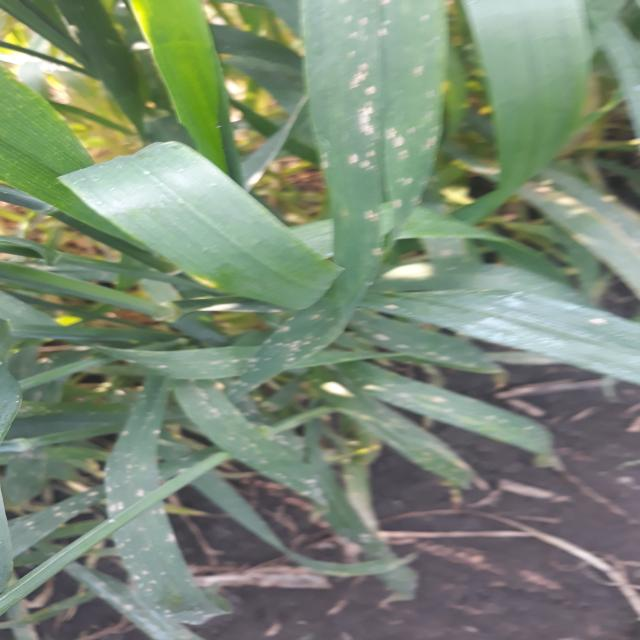powder_mildew: (296, 0, 458, 305), (98, 387, 224, 640), (144, 310, 471, 382), (209, 373, 340, 549), (328, 367, 555, 459), (456, 289, 640, 394), (0, 437, 84, 619)
